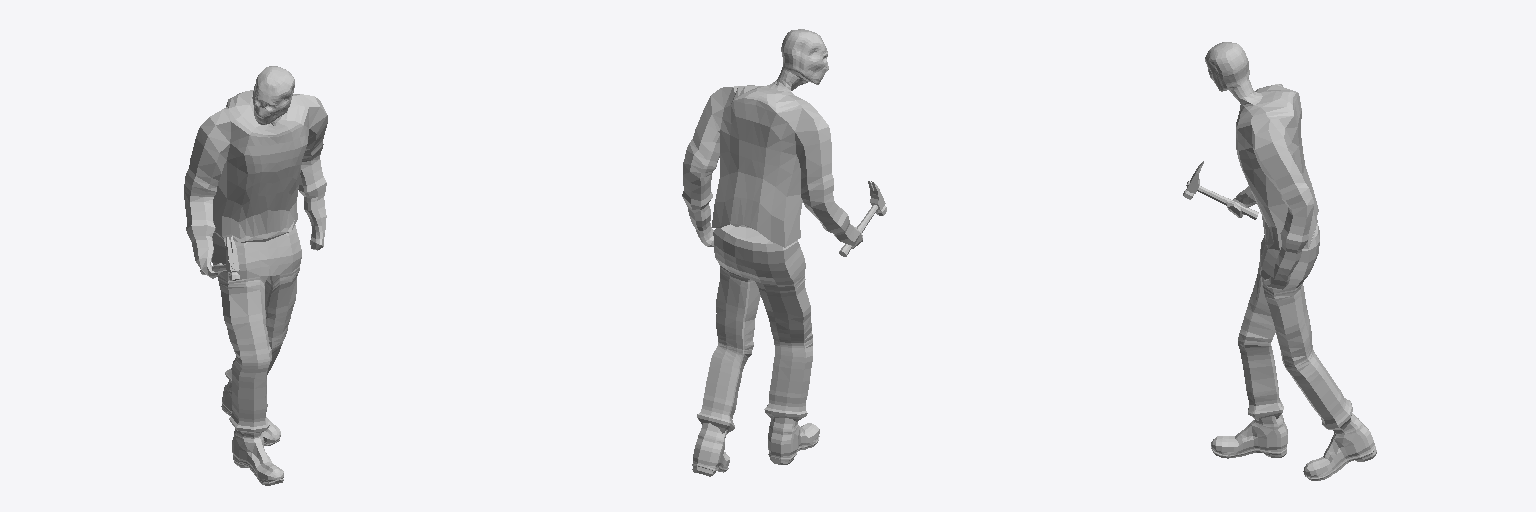
The model's file is Murderer_Idle41.obj.
3 renders of one model, left to right at view 1: azimuth 30°, elevation 25°; view 2: azimuth 150°, elevation 25°; view 3: azimuth 270°, elevation 25°, orthographic.
Visible parts, largest first — view 1: Körper, Beine, Stiefel, Hammer; view 2: Körper, Beine, Stiefel, Hammer; view 3: Körper, Beine, Stiefel, Hammer.
Boxes of the visible parts, x1,y1,x2,y2 form: Körper: [184, 66, 327, 278]; Beine: [212, 225, 301, 433]; Stiefel: [221, 380, 283, 485]; Hammer: [200, 236, 239, 280]; Körper: [682, 29, 862, 248]; Beine: [697, 224, 812, 433]; Stiefel: [692, 418, 819, 476]; Hammer: [839, 181, 886, 256]; Körper: [1205, 42, 1318, 289]; Beine: [1238, 224, 1352, 429]; Stiefel: [1211, 413, 1376, 480]; Hammer: [1183, 161, 1258, 219].
Bounding box in the file's own units: 0.3631 × 0.9621 × 0.408.